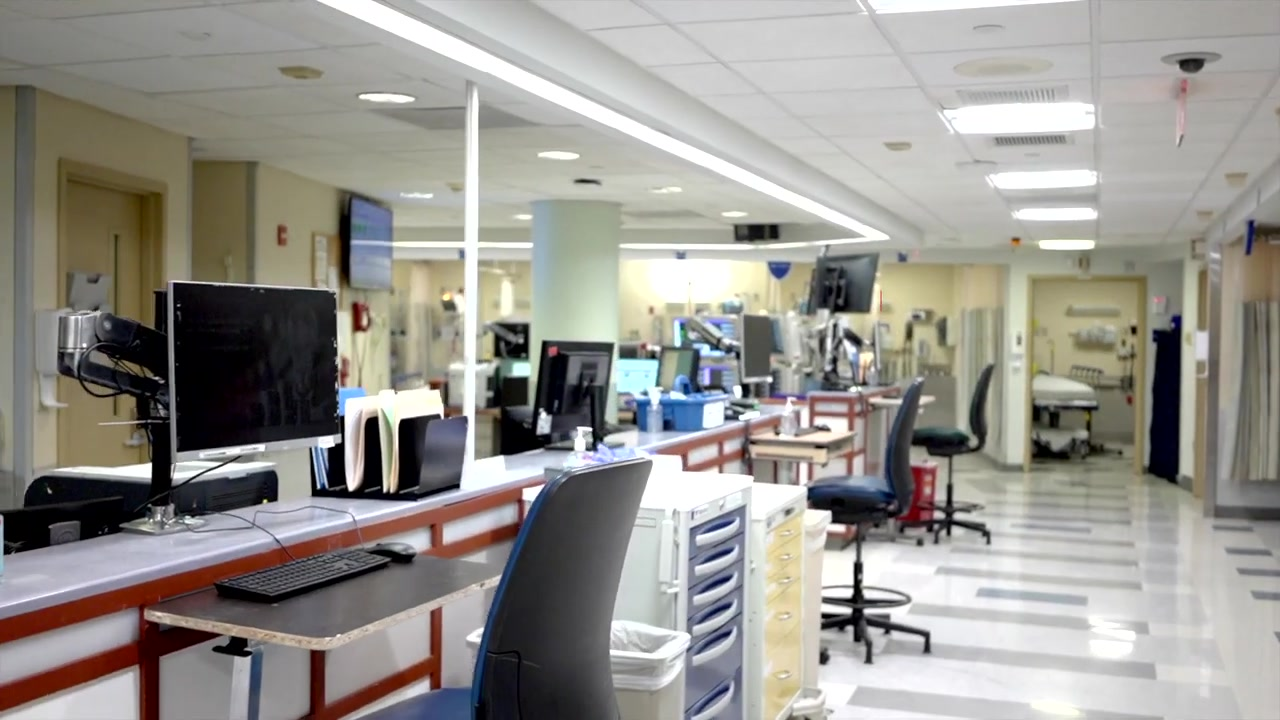TV: (342, 189, 394, 293), (804, 251, 878, 313)
bedrail: (1067, 361, 1103, 386)
chair: (324, 456, 654, 720), (805, 374, 933, 683), (901, 363, 1002, 548)
computer: (169, 278, 342, 460), (530, 341, 617, 453), (739, 313, 775, 384), (657, 344, 698, 390), (617, 355, 658, 396)
curtain: (1217, 241, 1280, 481), (959, 306, 1006, 454)
dispenser: (35, 305, 76, 409), (1187, 330, 1211, 379), (644, 385, 663, 436), (781, 397, 797, 435), (1010, 328, 1026, 361)
door_handle: (124, 435, 147, 448)
drawer: (522, 466, 755, 720), (750, 482, 808, 720)
handle: (684, 681, 736, 720), (690, 627, 740, 667), (688, 598, 741, 635), (693, 545, 742, 579), (693, 516, 739, 548), (693, 574, 738, 605), (773, 551, 798, 565), (770, 609, 795, 623), (776, 528, 797, 541), (773, 670, 790, 682), (775, 577, 795, 587)
hospital_bed: (1032, 363, 1106, 462)
keyboard: (213, 536, 393, 602)
mouse: (374, 538, 415, 563), (814, 423, 831, 432)
waste_bin: (464, 622, 695, 720), (799, 508, 840, 720), (901, 461, 938, 523)
